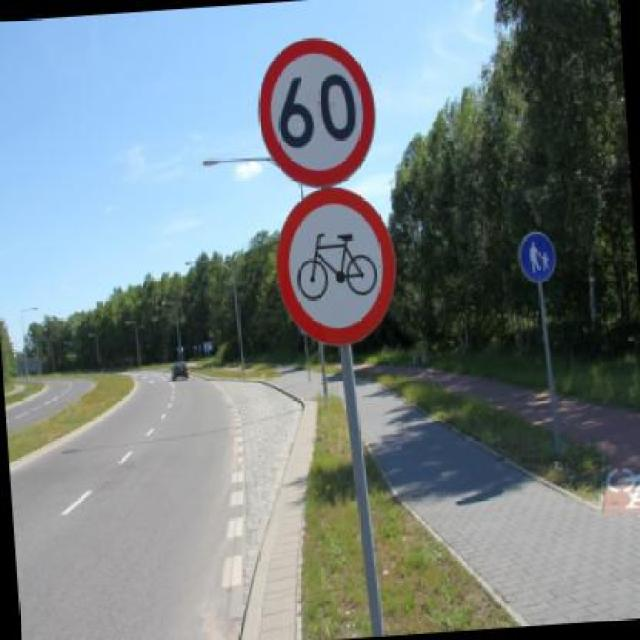Limite-60: (252, 33, 384, 193)
